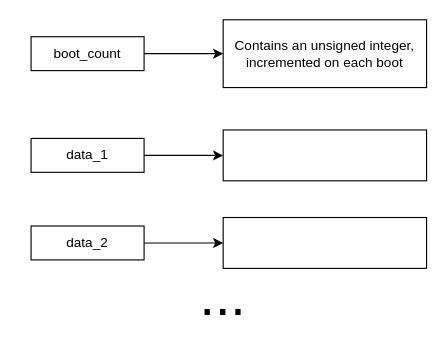
This 446x349 diagram has some shape labels left out. Each missing label, with the centre of its shape:
Contains readings from the first boot: (324,155)
Contains readings from the second boot: (324,242)
